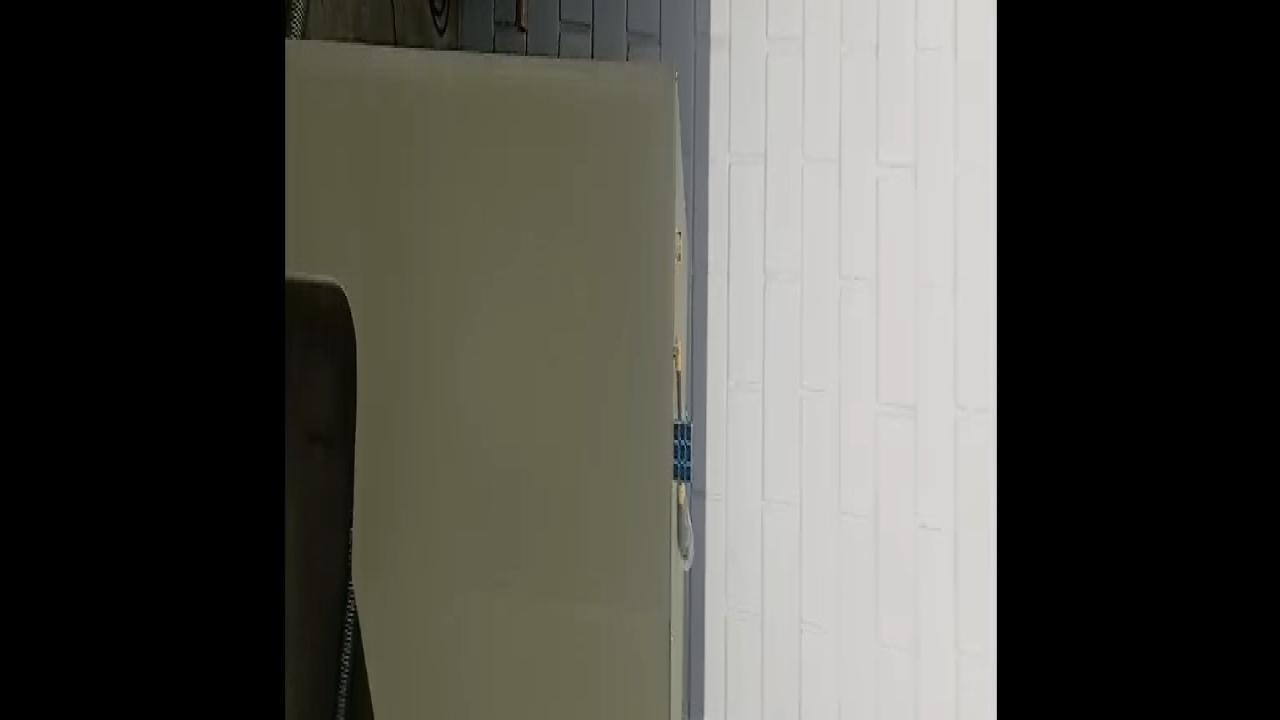Cube: (671, 419, 691, 483)
